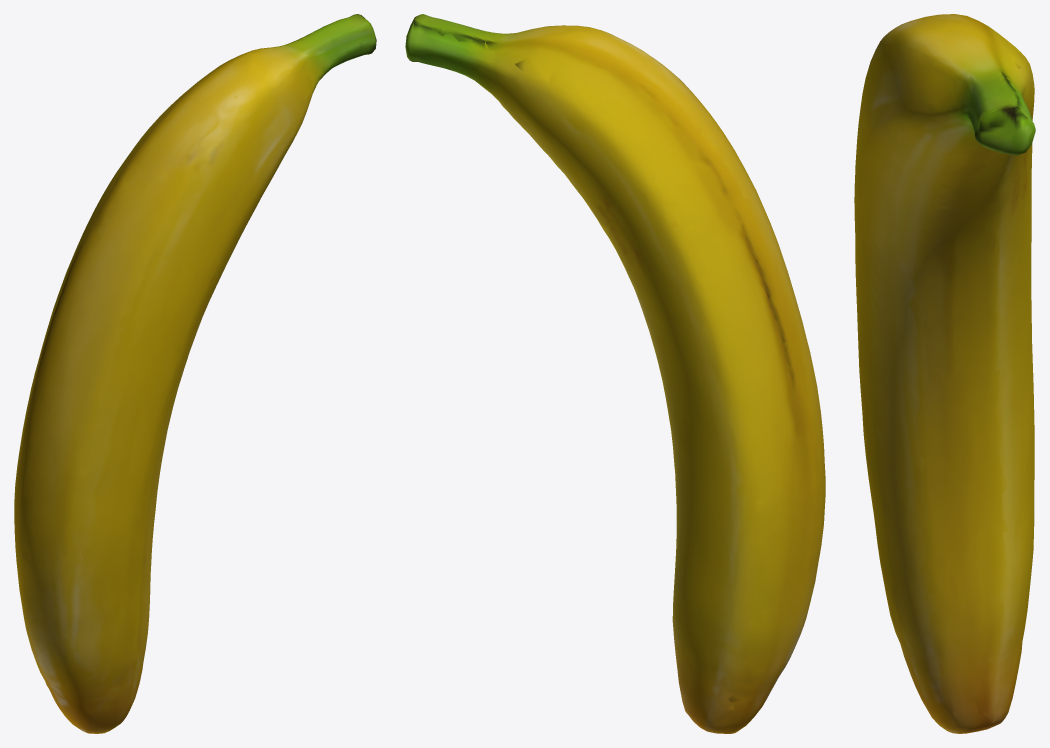
The picture shows the model from 3 angles, left to right: view 1: azimuth 30°, elevation 25°; view 2: azimuth 150°, elevation 25°; view 3: azimuth 270°, elevation 25°; orthographic projection. The views are drawn at different scales.
Parts seen in each view (by area): view 1: textured.008; view 2: textured.008; view 3: textured.008.
Part boxes in pixels (<box>): textured.008: <box>14,14,376,733</box>; textured.008: <box>405,14,825,733</box>; textured.008: <box>854,14,1035,733</box>.
Size of the model in its own units: 0.1089 by 0.1784 by 0.0367.
1 material, 1 textured.
